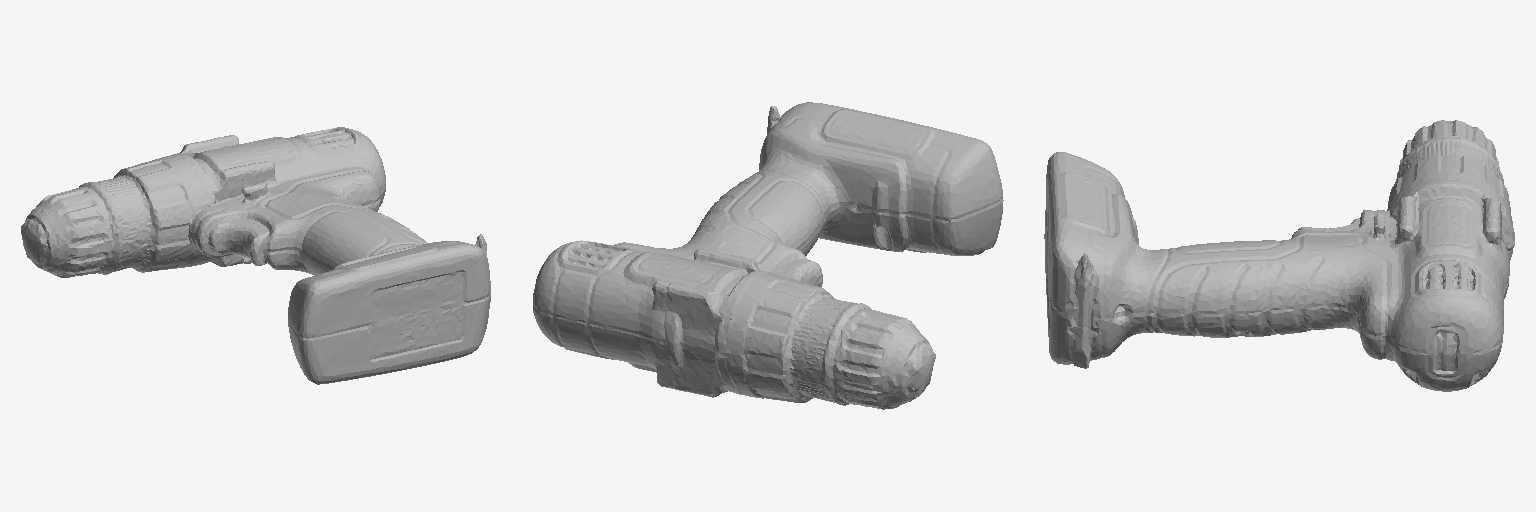
The robot description file, URDF, robot "root":
<?xml version="1.0"?>
<robot name="root">
  <link name="base_link">
    <visual>
      <origin xyz="0 0 0" rpy="0 0 0" />
      <geometry>
        <mesh filename="035_power_drill.stl" scale="1.0000E+00 1.0000E+00 1.0000E+00" />
      </geometry>
      <material name="">
        <color rgba="7.50E-01 7.50E-01 7.50E-01 1" />
      </material>
    </visual>
    <collision>
      <origin xyz="0 0 0" rpy="0 0 0" />
      <geometry>
        <mesh filename="035_power_drill.stl" scale="1.0000E+00 1.0000E+00 1.0000E+00" />
      </geometry>
    </collision>
  </link>
</robot>

--- What the picture shows (computed from the rendered views, not written in the file) ---
3 views of the same robot in one strip: view 1: azimuth 30°, elevation 25°; view 2: azimuth 150°, elevation 25°; view 3: azimuth 270°, elevation 25° (orthographic).
Model root with 1 links and 0 joints (none), rooted at base_link, posed all joints at 0.
Links seen in each view (by area): view 1: base_link; view 2: base_link; view 3: base_link.
Link boxes in pixels (<box>): base_link: <box>21,127,490,384</box>; base_link: <box>533,102,1003,409</box>; base_link: <box>1044,120,1514,391</box>.
Bounding box of the posed robot: 0.1842 × 0.1875 × 0.0573 m (x, y, z).
Meshes: 1 distinct files referenced, 1 mesh visuals loaded (1 binary STL).